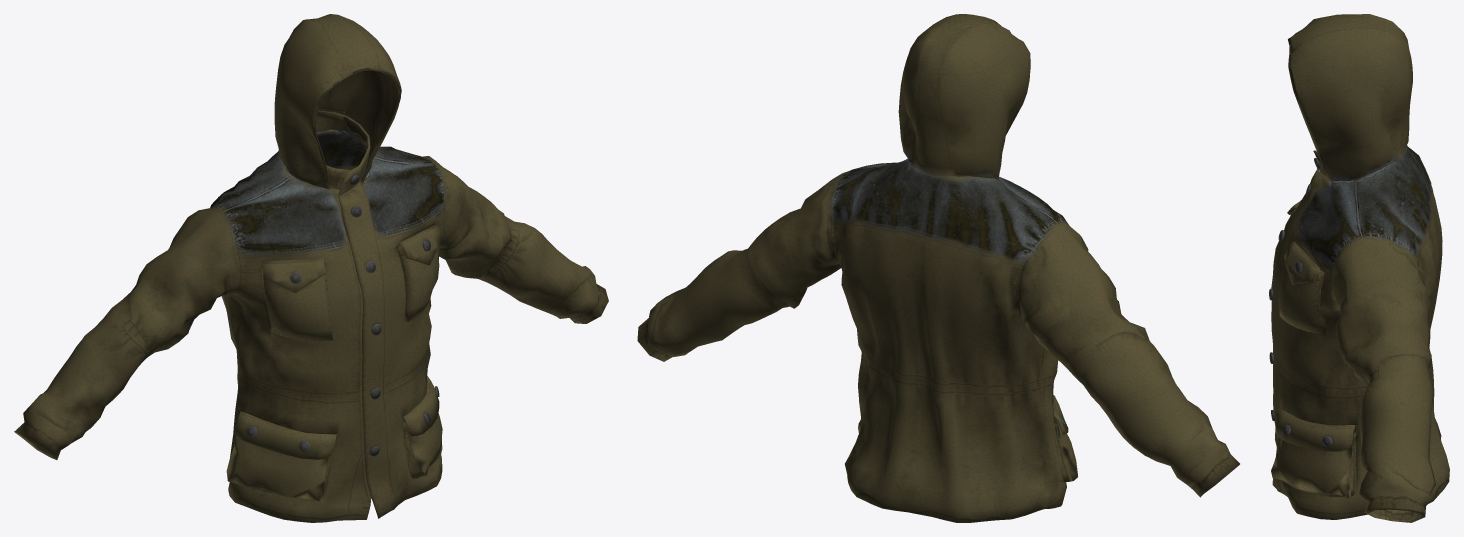
Rendered from jacket.glb.
3 renders of one model, left to right at view 1: azimuth 30°, elevation 25°; view 2: azimuth 150°, elevation 25°; view 3: azimuth 270°, elevation 25°, orthographic.
Parts seen in each view (by area): view 1: stalker_marvelous.001; view 2: stalker_marvelous.001; view 3: stalker_marvelous.001.
Part boxes in pixels (x1=…): stalker_marvelous.001: x1=14, y1=14, x2=608, y2=522; stalker_marvelous.001: x1=637, y1=14, x2=1239, y2=522; stalker_marvelous.001: x1=1269, y1=14, x2=1449, y2=522.
Bounding box in the file's own units: 122 × 93.46 × 32.92.
1 material, 1 textured.
